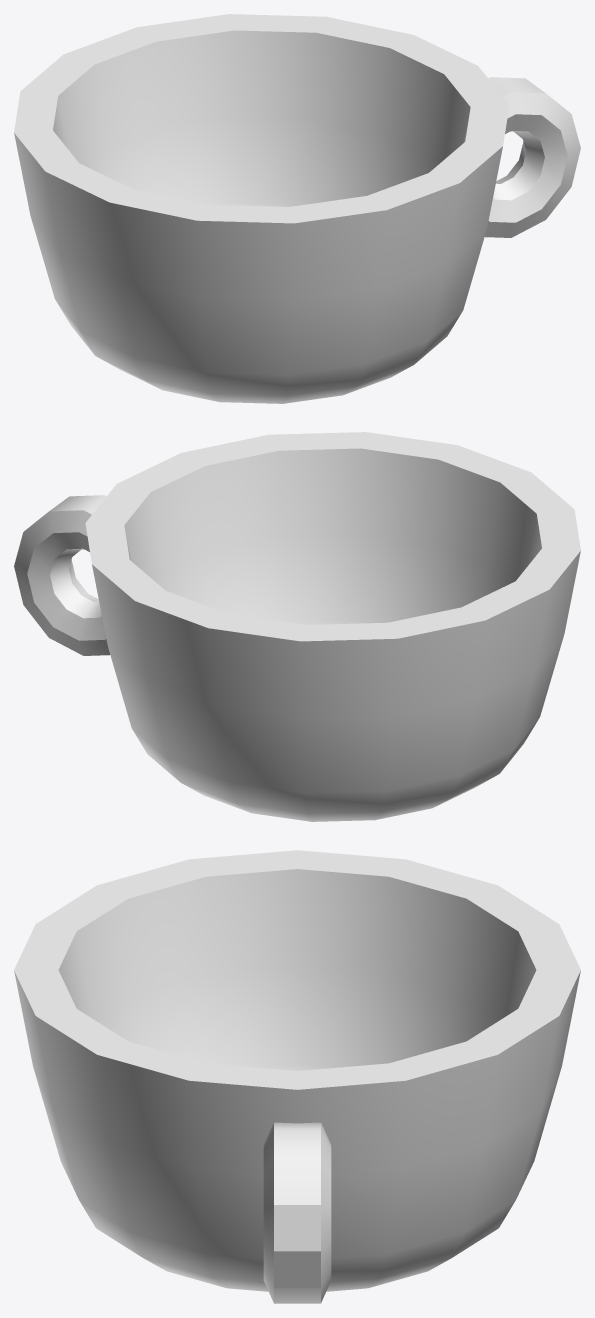
The model's file is Cup_01.fbx.
3 renders of one model, top to bottom at view 1: azimuth 30°, elevation 25°; view 2: azimuth 150°, elevation 25°; view 3: azimuth 270°, elevation 25°, orthographic. The views are drawn at different scales.
Visible parts, largest first — view 1: Cup_01; view 2: Cup_01; view 3: Cup_01.
Boxes of the visible parts, bbox=[...] form: Cup_01: bbox=[14, 14, 580, 403]; Cup_01: bbox=[14, 432, 580, 821]; Cup_01: bbox=[14, 850, 580, 1303].
Bounding box in the file's own units: 43.98 × 17.95 × 36.23.
